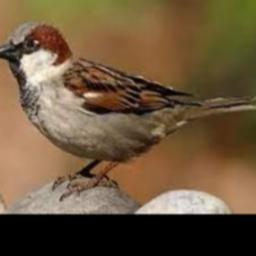Sparrow: (0, 22, 256, 200)
